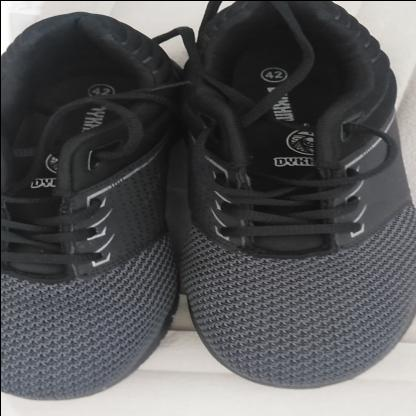safety-shoe: (0, 0, 414, 398)
